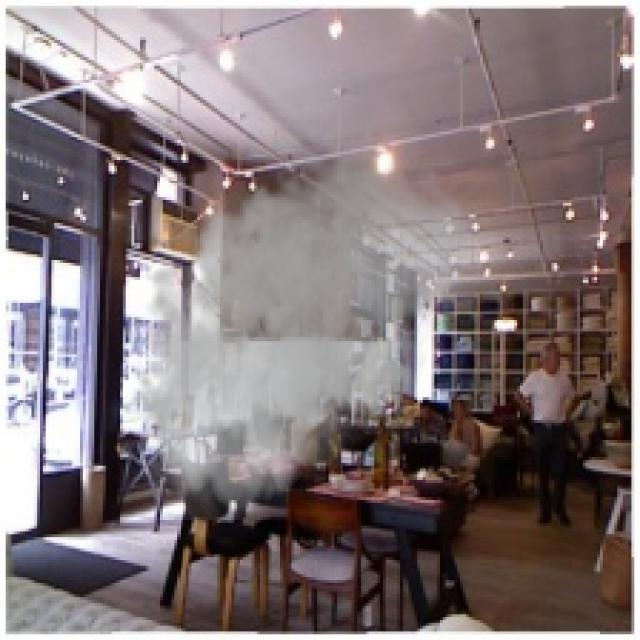smoke: (126, 137, 477, 520)
